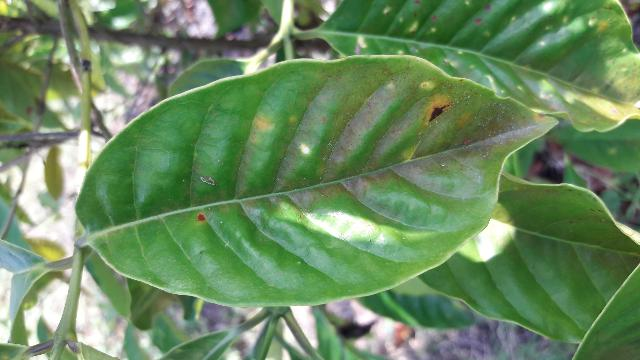red_spider_mite: (78, 54, 557, 301)
